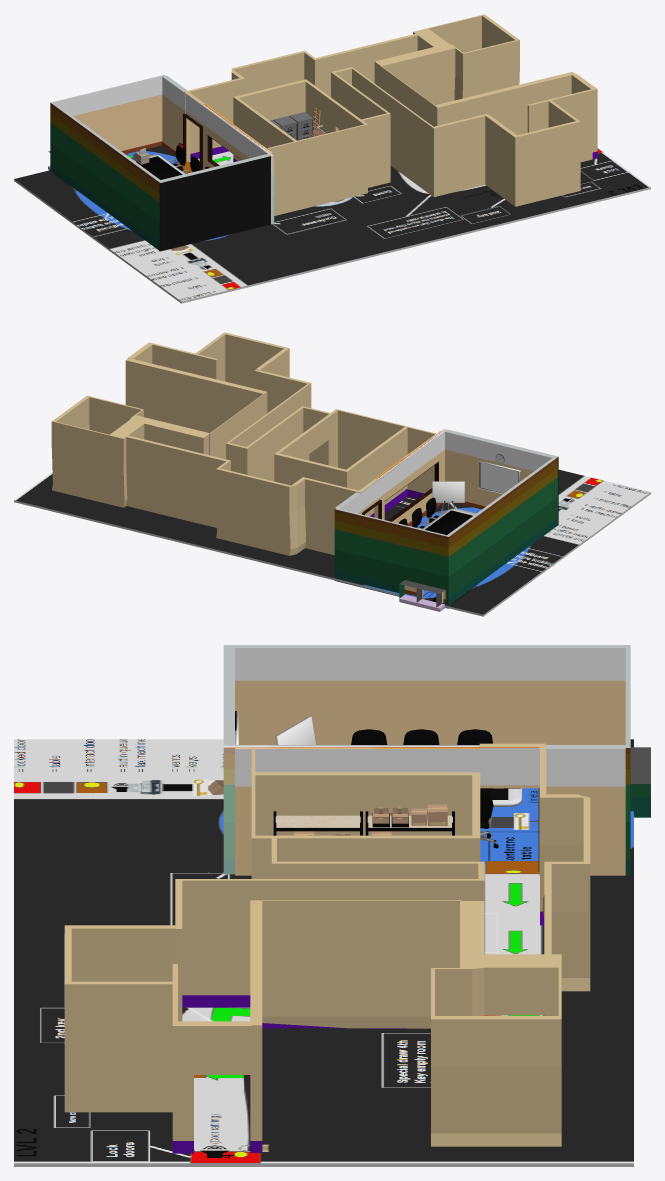
Rendered from makingl level 2  (2).fbx.
3 views of the same model, one above another, from view 1: azimuth 30°, elevation 25°; view 2: azimuth 150°, elevation 25°; view 3: azimuth 270°, elevation 25° (orthographic). The views are drawn at different scales.
Parts seen in each view (by area): view 1: Cube, Cube.002, Cube.001, Cube.012, Cube.016, Cube.007, Cube.004, Cube.019; view 2: Cube.012, Cube.002, Cube, Cube.001, Cube.007, Cube.016, Cube.009, Cube.004, white board; view 3: Cube, Cube.002, Cube.001, Cube.012, Cube.016, Cube.007, Cube.017, Cube.008, Cube.018, white board.002.
Boxes of the visible parts, <box> form: Cube: <box>14,145,650,303</box>; Cube.002: <box>48,75,274,251</box>; Cube.001: <box>233,67,488,215</box>; Cube.012: <box>184,14,519,160</box>; Cube.016: <box>485,73,597,206</box>; Cube.007: <box>380,66,574,135</box>; Cube.004: <box>132,154,184,179</box>; Cube.019: <box>289,112,313,140</box>; Cube.012: <box>51,395,378,555</box>; Cube.002: <box>334,429,558,611</box>; Cube: <box>14,469,650,616</box>; Cube.001: <box>226,369,435,517</box>; Cube.007: <box>125,358,267,459</box>; Cube.016: <box>127,332,289,388</box>; Cube.009: <box>478,460,520,494</box>; Cube.004: <box>422,508,476,535</box>; white board: <box>432,481,464,515</box>; Cube: <box>14,739,633,1166</box>; Cube.002: <box>223,645,650,875</box>; Cube.001: <box>175,748,484,1021</box>; Cube.012: <box>431,743,590,1146</box>; Cube.016: <box>64,925,251,1153</box>; Cube.007: <box>250,900,462,1152</box>; Cube.017: <box>273,811,362,835</box>; Cube.008: <box>457,729,498,848</box>; Cube.018: <box>365,811,454,835</box>; white board.002: <box>275,715,316,744</box>.
Bounding box in the file's own units: 6110 × 1031 × 3881.
167 materials, 14 textured.
